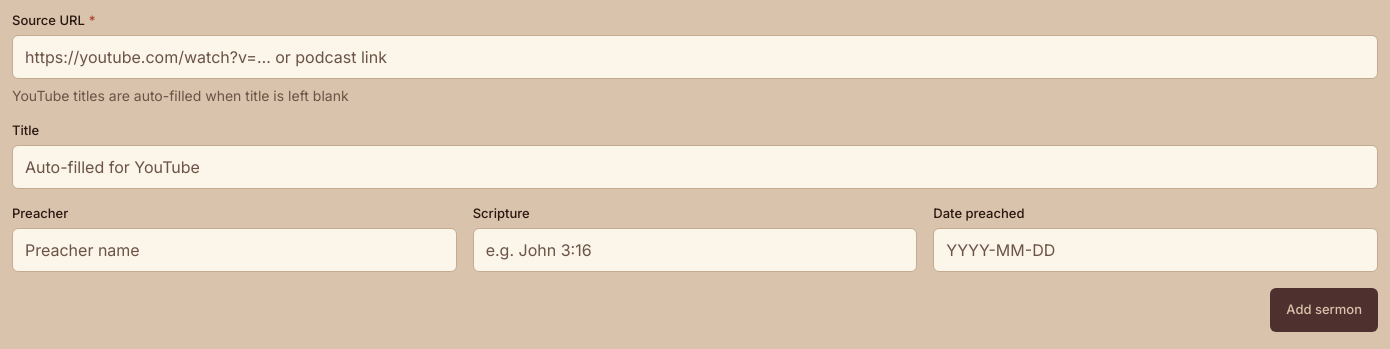
Test case: SermonForm — create mode › shows validation error for non-http URL
This screenshot has width=1390, height=349.
Type "ftp://not-allowed.com" into the field labelled "Source URL*" at [695, 57], box [12,35,1378,79]
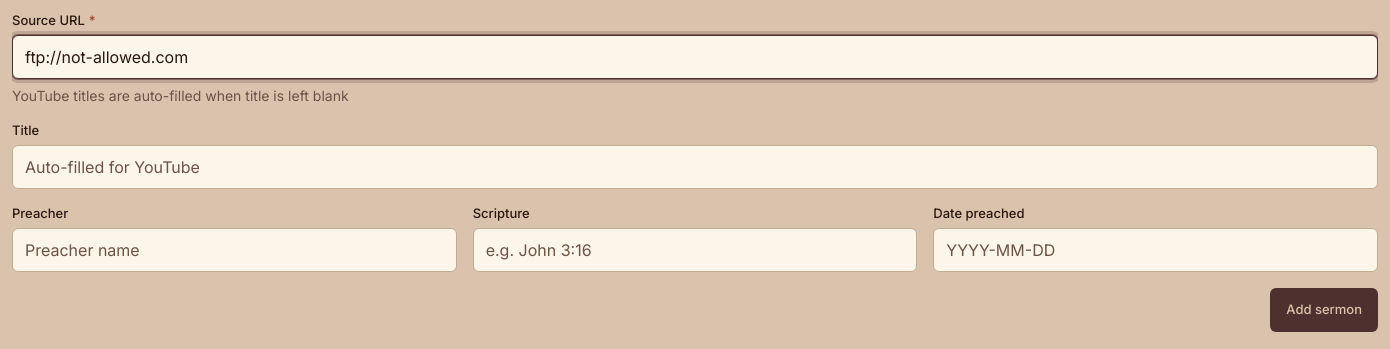
Click the button "Add sermon" at [1324, 310], box [1270,288,1378,332]
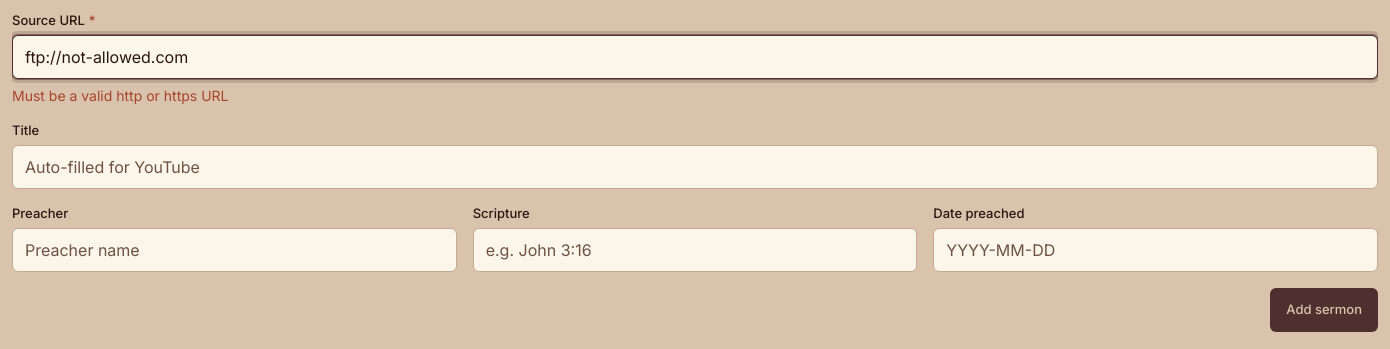
Check: the text "Must be a valid http or https URL" is shown, box [12,87,228,104]
